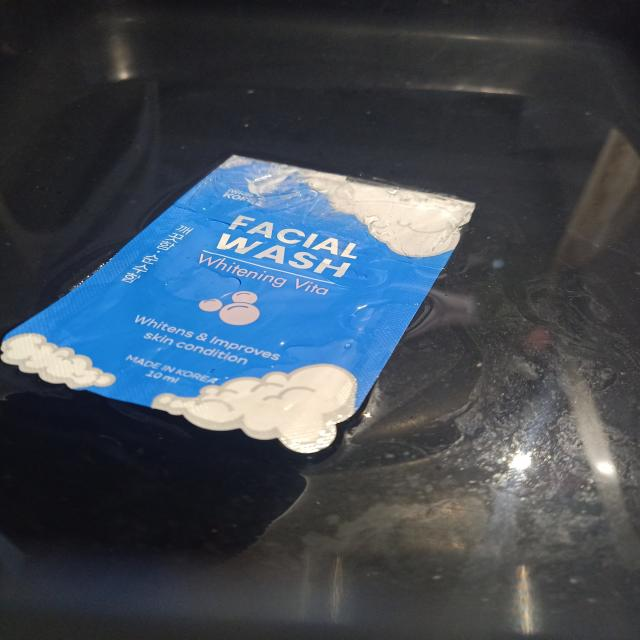Plastic Wrapper: (2, 156, 474, 453)
